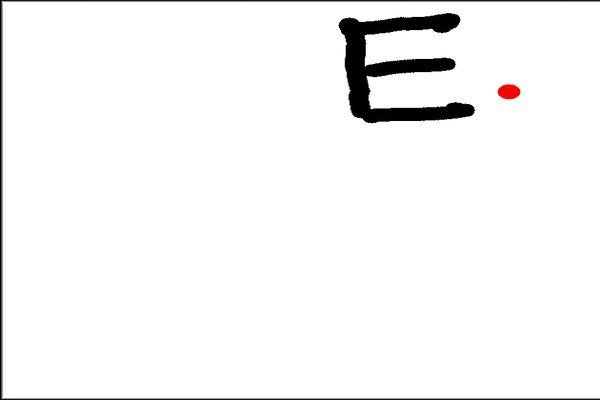E: (332, 7, 481, 127)
